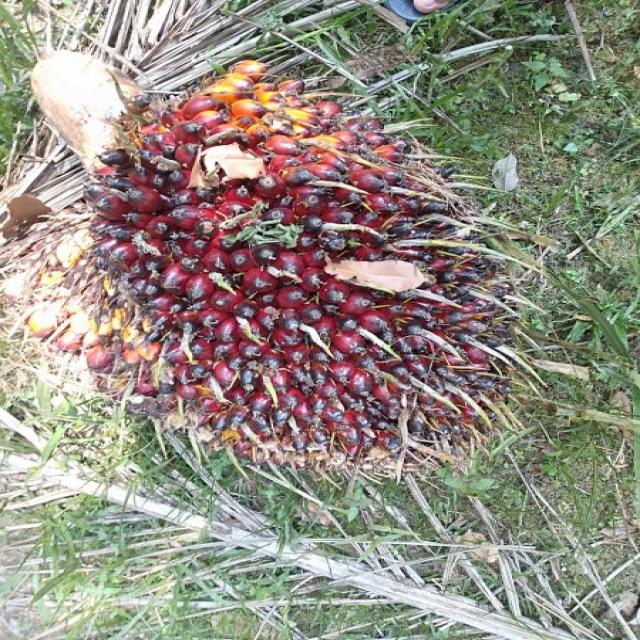fraksi 1: (58, 75, 520, 481)
